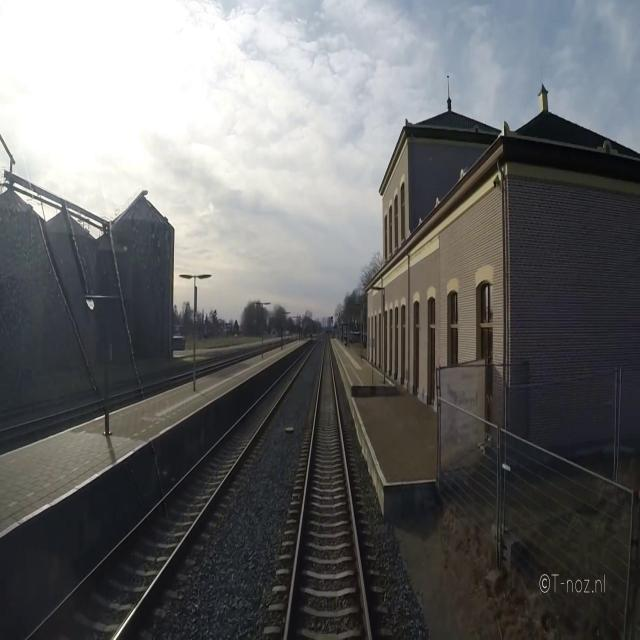rail-track: (31, 350, 309, 639), (288, 341, 367, 639)
